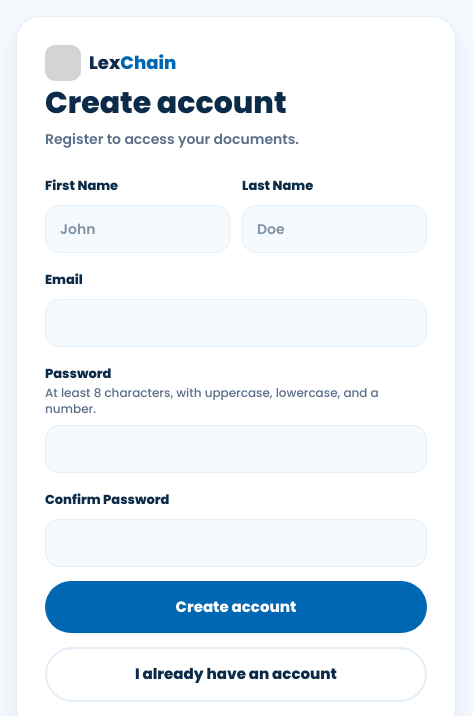
Scenario: RegisterPage › accepts the backend password rules without requiring a special character
Type "Ada" into the field labelled "First Name" at [138, 229], box [45,205,230,253]
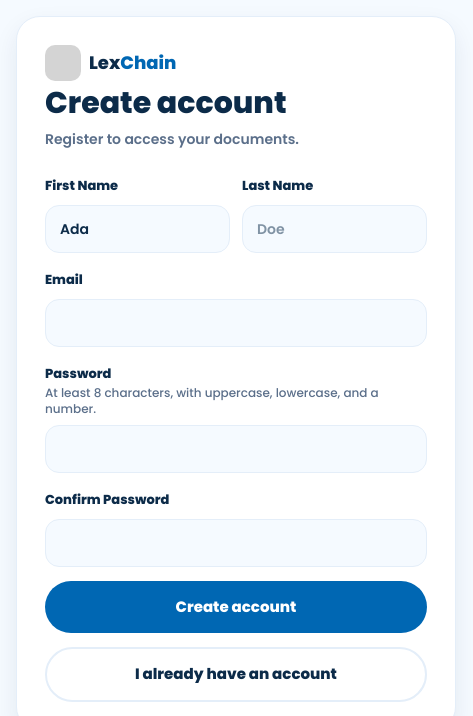
Type "O'Connor" into the field labelled "Last Name" at [334, 229], box [242,205,427,253]
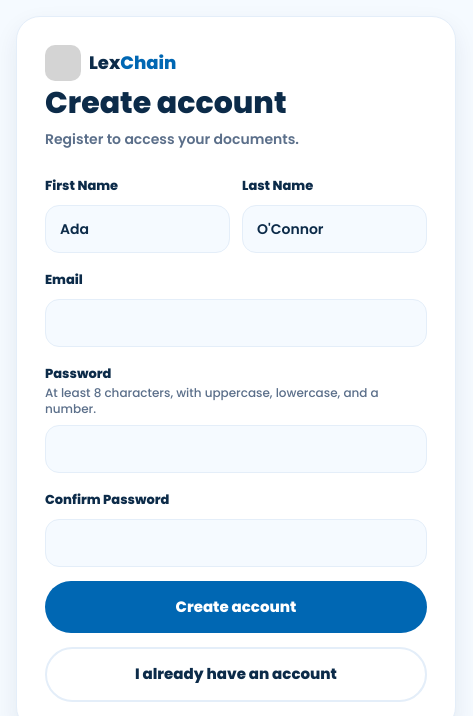
Type "elodie@example.com" into the field labelled "Email" at [236, 323], box [45,299,427,347]
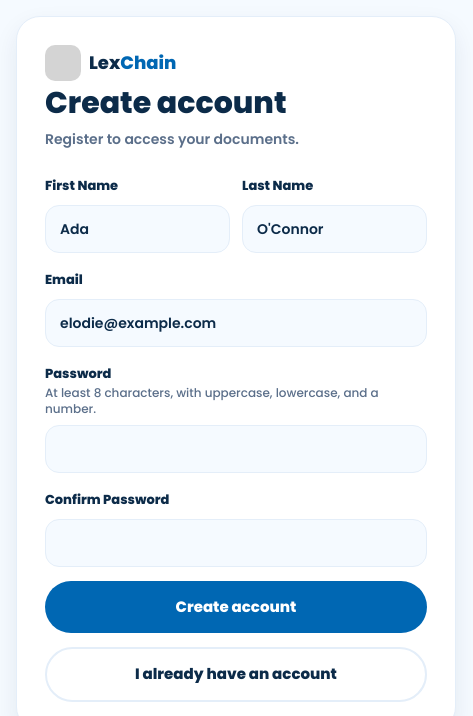
Type "Password1" into the password field labelled "Password" at [236, 449], box [45,425,427,473]
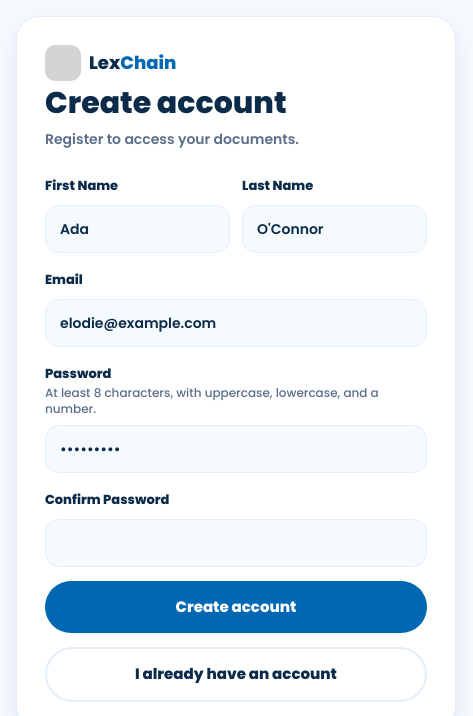
Type "Password1" into the password field labelled "Confirm Password" at [236, 543], box [45,519,427,567]
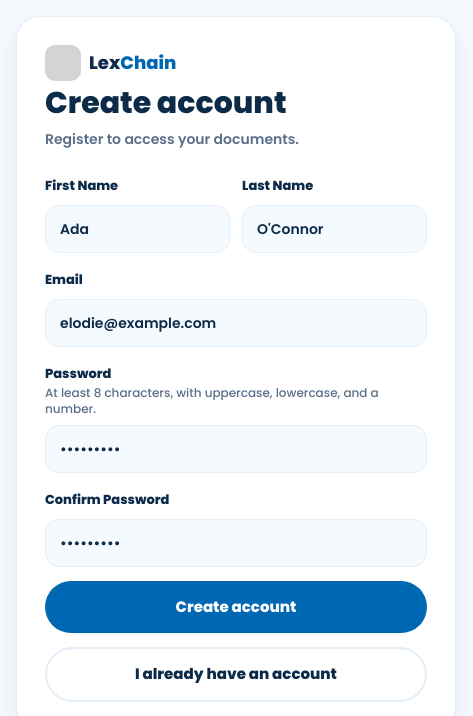
Click the button "Create account" at [236, 607], box [45,581,427,633]
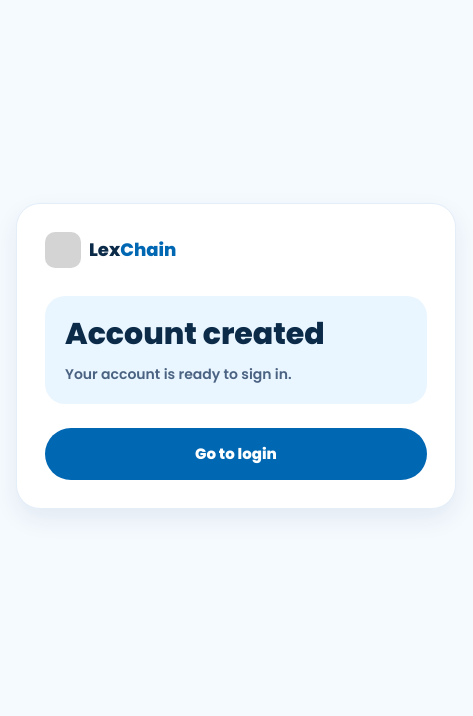
Expected: the heading "Account created" is shown, [65,313,325,355]
Expected: the text "Your account is ready to sign in." is shown, [65,364,292,384]
